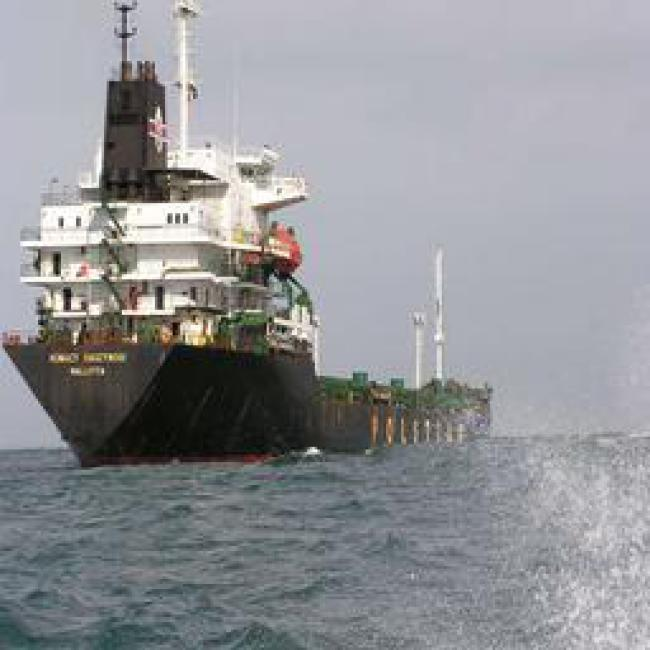Ship: (12, 62, 514, 449)
